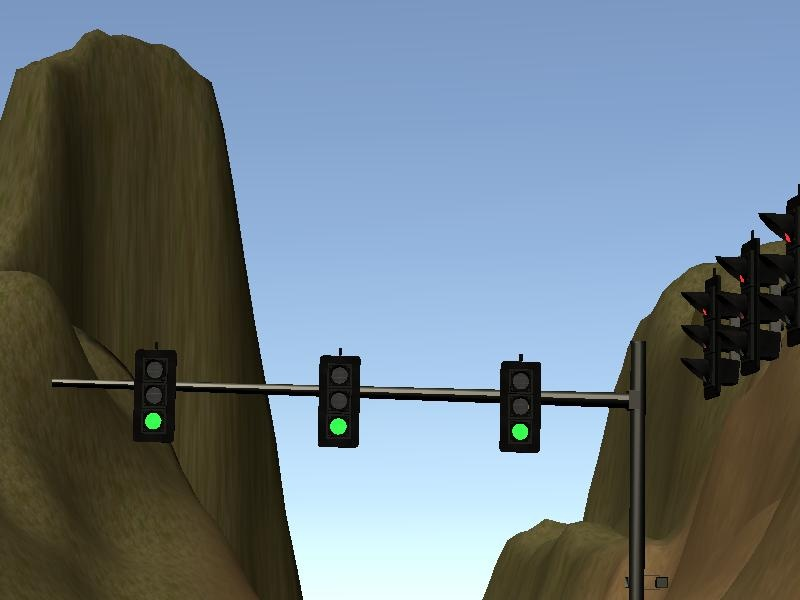GREEN: (132, 347, 178, 442), (316, 353, 362, 448), (499, 362, 542, 455)
